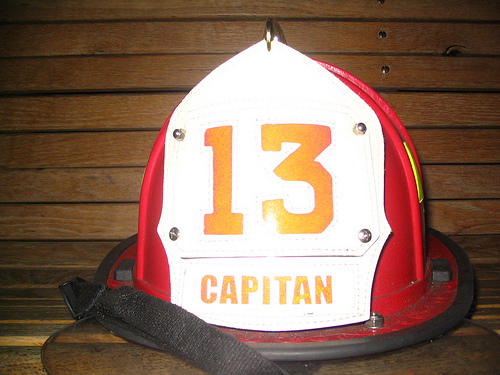helmet: (135, 55, 471, 351)
